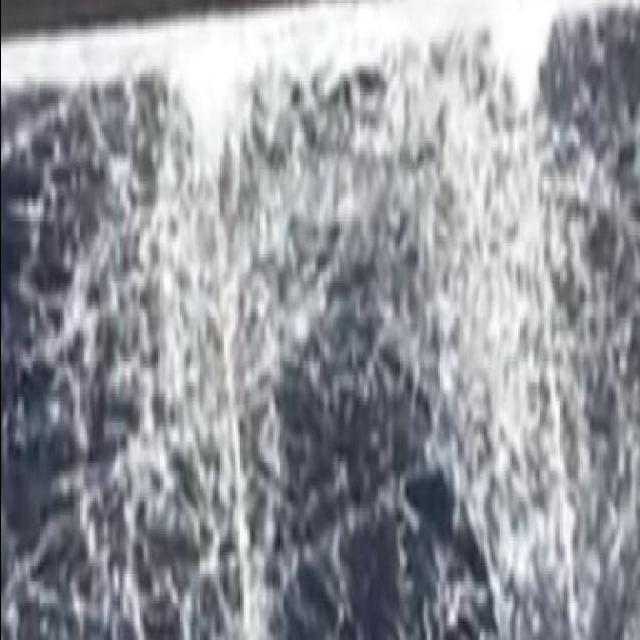cracked: (2, 12, 636, 640)
